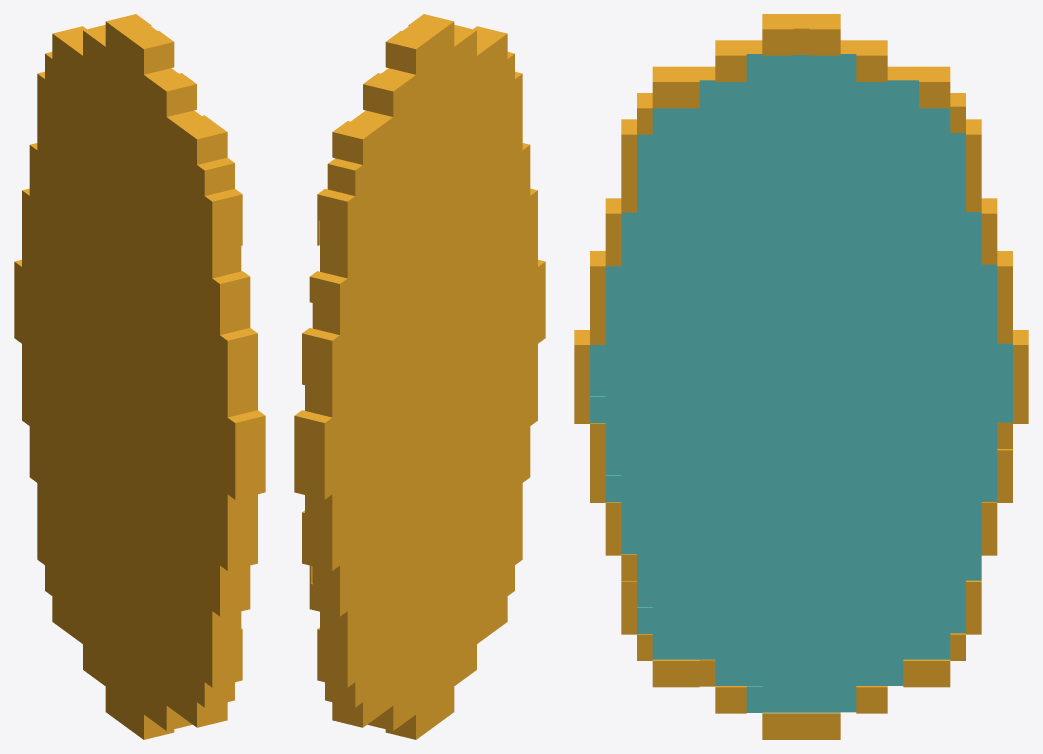
File: Lustro2.fbx
The picture shows the model from 3 angles, left to right: view 1: azimuth 30°, elevation 25°; view 2: azimuth 150°, elevation 25°; view 3: azimuth 270°, elevation 25°; orthographic projection. The views are drawn at different scales.
Visible parts, largest first — view 1: Cube.031; view 2: Cube.031; view 3: Cube.031.
Part boxes in pixels (x1=…): Cube.031: x1=14, y1=14, x2=265, y2=739; Cube.031: x1=294, y1=14, x2=545, y2=739; Cube.031: x1=574, y1=14, x2=1028, y2=739.
Size of the model in its own units: 31.59 by 686 by 397.
